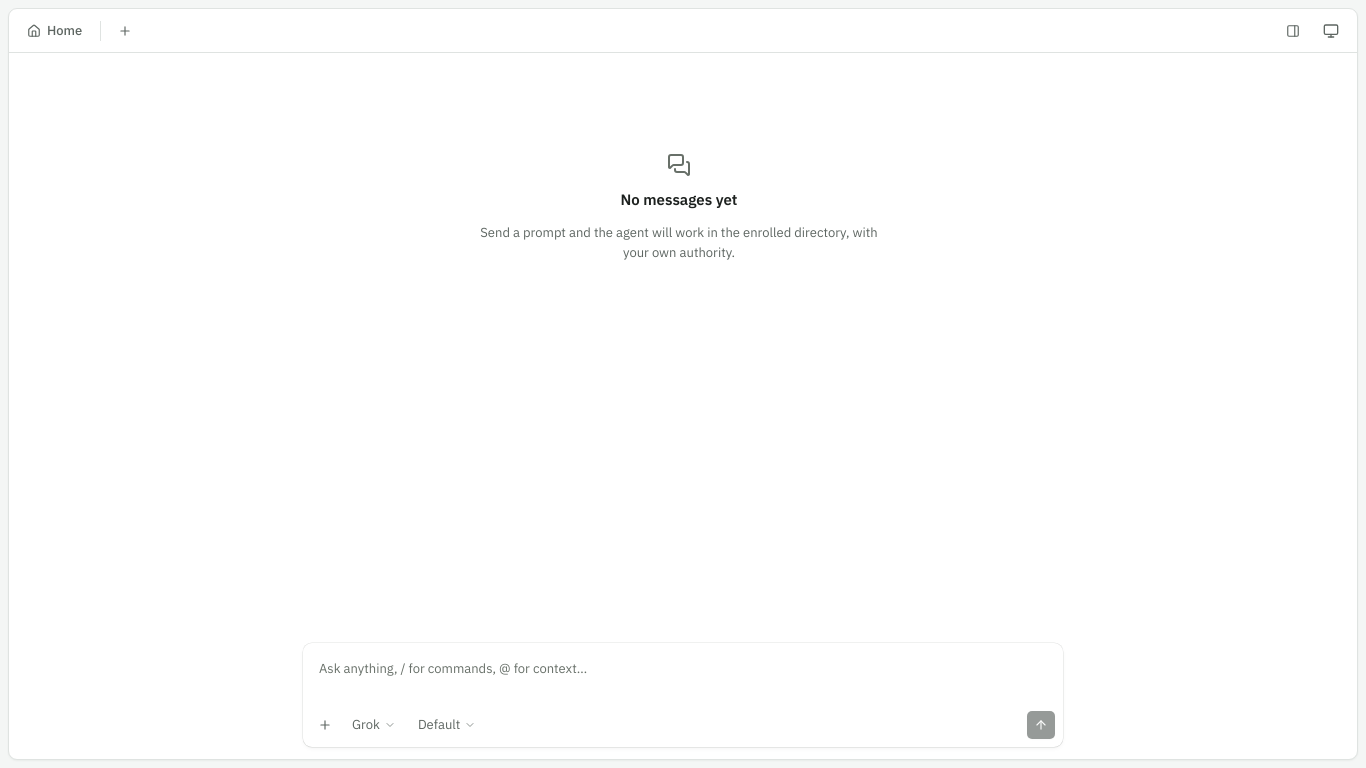
it: SessionView › fades the left toolbar in bash mode instead of unmounting it
Expected: the element showing "Grok Default" is shown, [311,711,485,739]
Expected: the button named "add to message" is enabled, [311,711,339,739]
Type "!" into the text box named "message the agent" at {"x": 683, "y": 673}, box [303,643,1063,703]
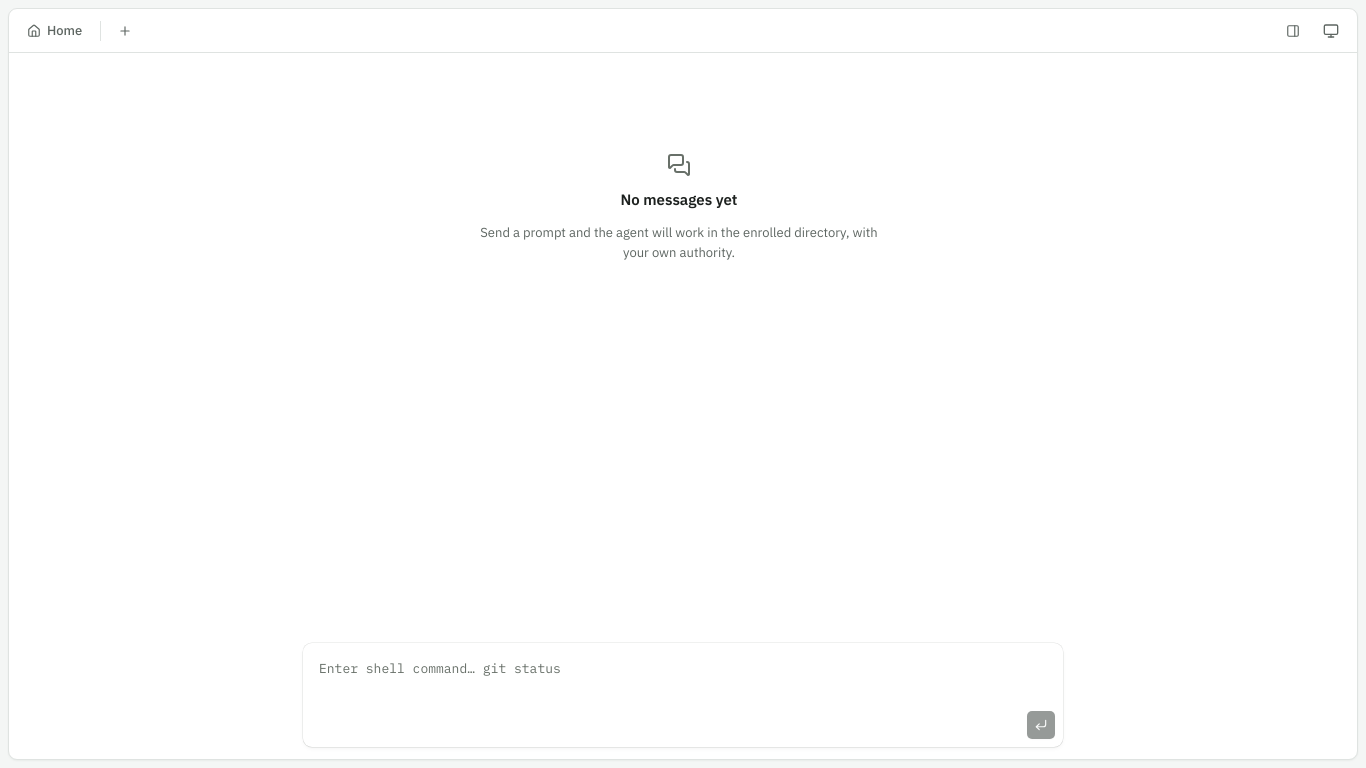
Expected: the text box labelled "Enter shell command… git status" has class "font-mono", [303,643,1063,703]
Press Backspace
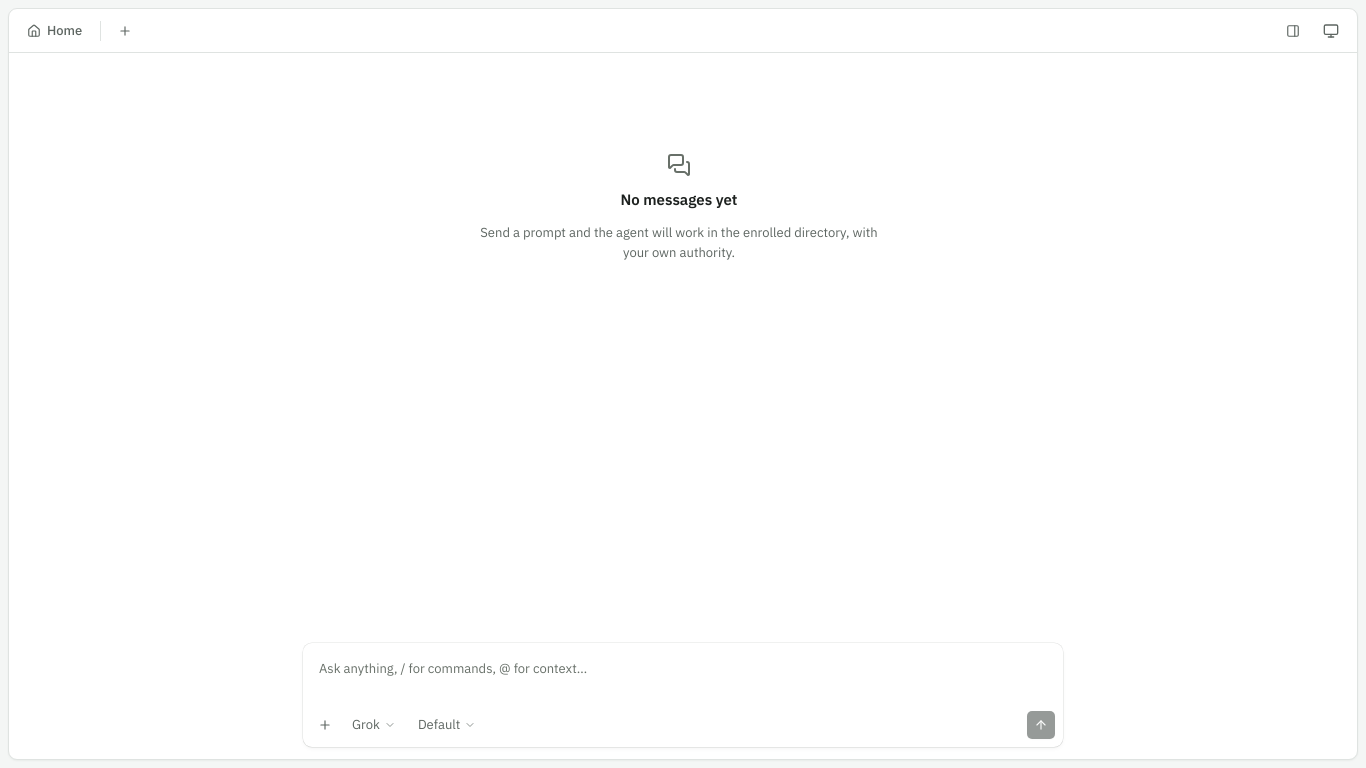
Expected: the button with aria-label "model" is enabled, [343,711,405,739]
